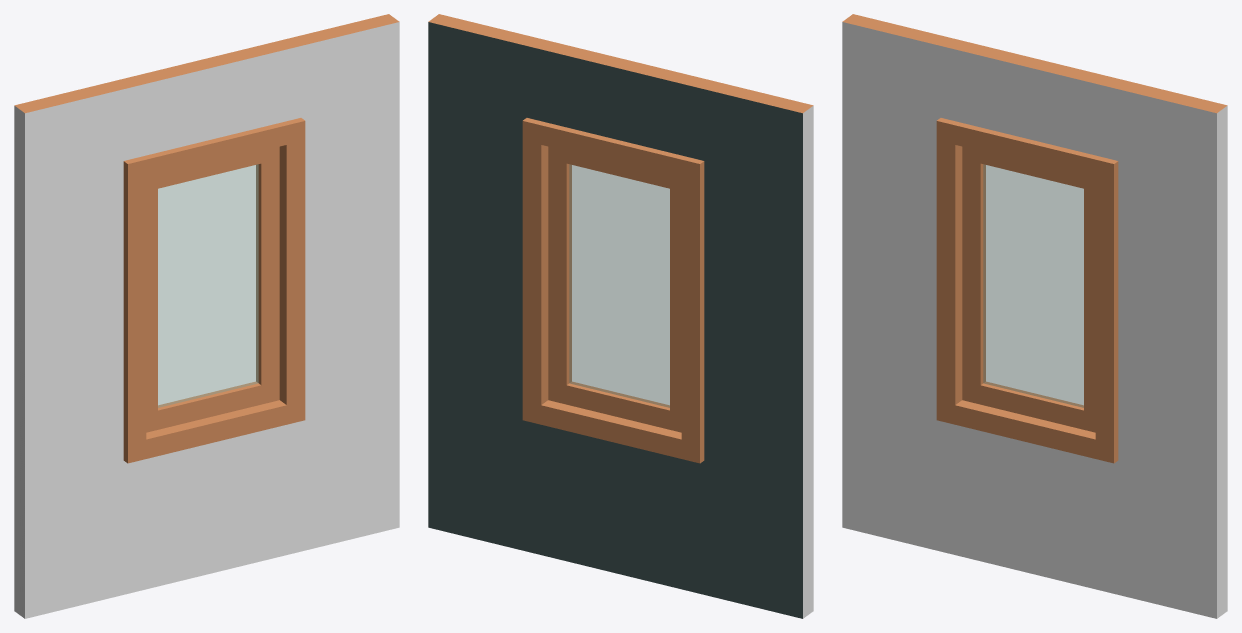
Rendered from Wall Window.glb.
The picture shows the model from 3 angles, left to right: view 1: azimuth 30°, elevation 25°; view 2: azimuth 150°, elevation 25°; view 3: azimuth 330°, elevation 25°; orthographic projection.
Parts seen in each view (by area): view 1: wallWindow(Clone), window; view 2: wallWindow(Clone), window; view 3: wallWindow(Clone), window.
Boxes of the visible parts, x1=… form: wallWindow(Clone): x1=14, y1=14, x2=399, y2=618; window: x1=146, y1=146, x2=279, y2=432; wallWindow(Clone): x1=428, y1=14, x2=813, y2=618; window: x1=548, y1=146, x2=681, y2=432; wallWindow(Clone): x1=842, y1=14, x2=1227, y2=618; window: x1=962, y1=146, x2=1095, y2=432.
Bounding box in the file's own units: 1 × 1.29 × 0.0891.
